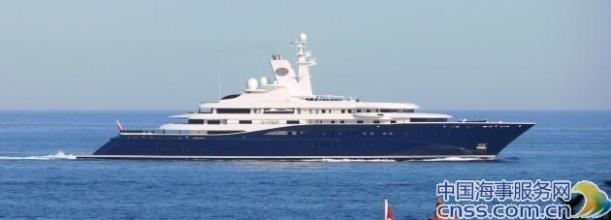yacht: (83, 31, 541, 163)
